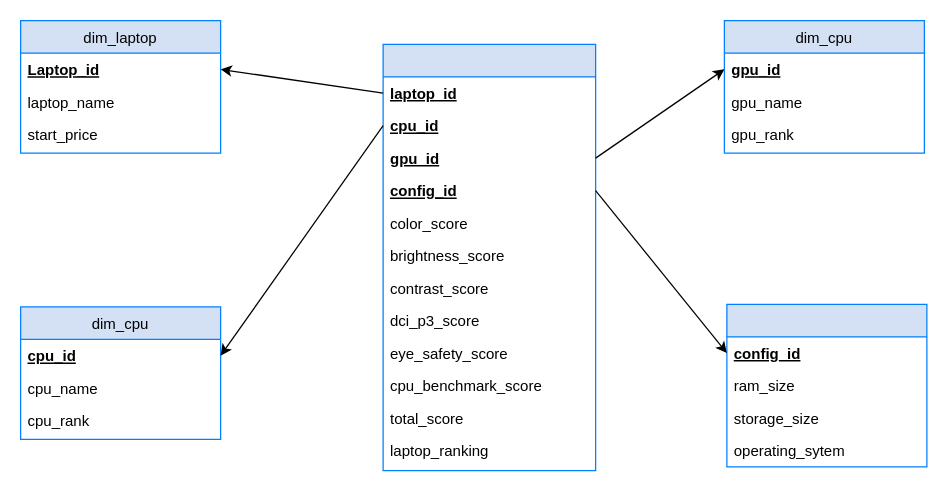
This 948x491 diagram has some shape labels left out. The shapes that lost their labels are listed below. From the top down, each one's box as (x1, y1, x2, y2) in pixels, then its label:
(382, 43, 596, 471): fact_laptop_performance
(726, 303, 927, 467): dim_config
